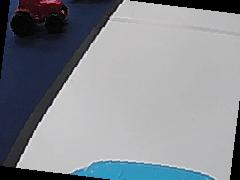Tracktor: (9, 0, 70, 35)
